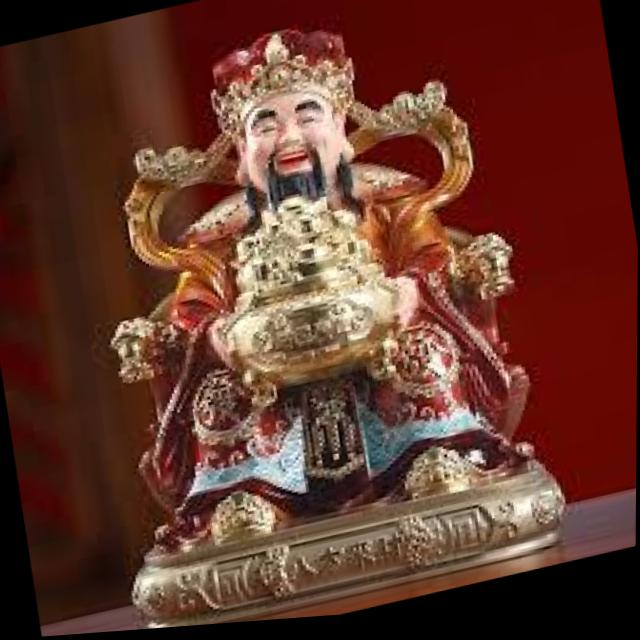Cai shen: (108, 0, 508, 541)
